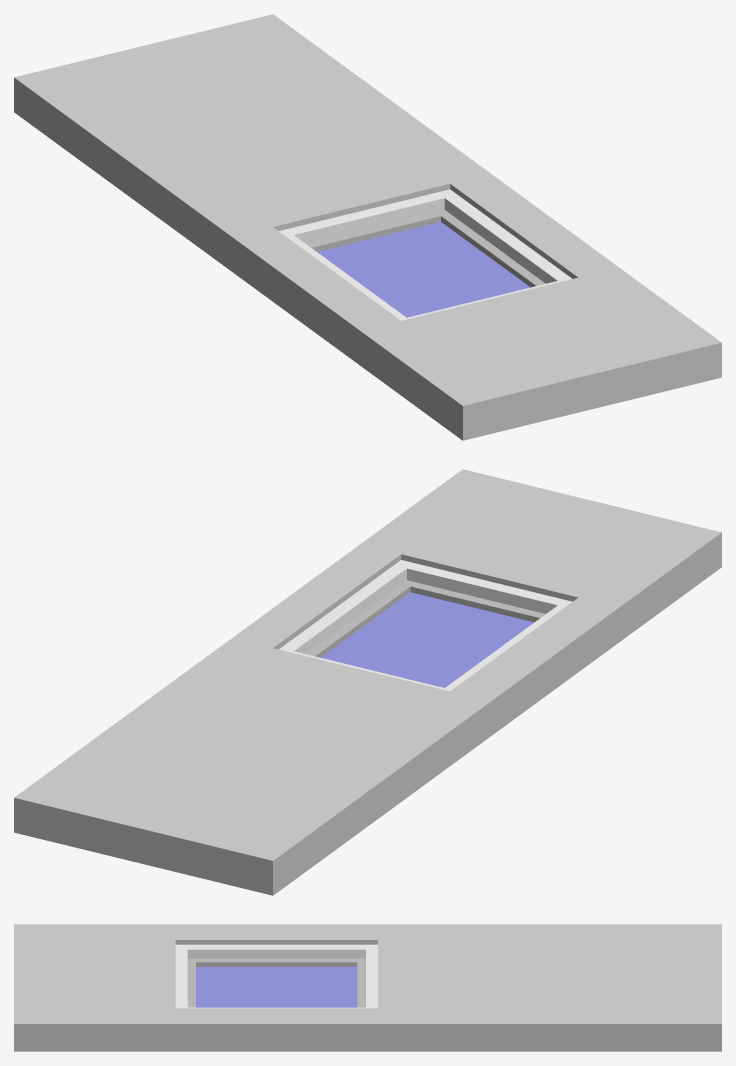
The model's file is Window02.gltf.
3 renders of one model, top to bottom at view 1: azimuth 30°, elevation 25°; view 2: azimuth 150°, elevation 25°; view 3: azimuth 270°, elevation 25°, orthographic. The views are drawn at different scales.
Visible parts, largest first — view 1: SIP, Glass, WindowFrame, WindowCasement; view 2: SIP, Glass, WindowFrame, WindowCasement; view 3: SIP, Glass, WindowFrame, WindowCasement.
Part boxes in pixels (left/top/right/bottom): SIP: left=14, top=14, right=721, bottom=440; Glass: left=317, top=222, right=530, bottom=317; WindowFrame: left=279, top=189, right=571, bottom=320; WindowCasement: left=306, top=210, right=545, bottom=287; SIP: left=14, top=469, right=721, bottom=895; Glass: left=321, top=592, right=533, bottom=687; WindowFrame: left=279, top=560, right=572, bottom=691; WindowCasement: left=306, top=580, right=545, bottom=657; SIP: left=14, top=924, right=721, bottom=1051; Glass: left=196, top=967, right=357, bottom=1007; WindowFrame: left=175, top=944, right=377, bottom=1008; WindowCasement: left=187, top=958, right=365, bottom=1007.
Bounding box in the file's own units: 1.17 × 0.1726 × 3.5.
